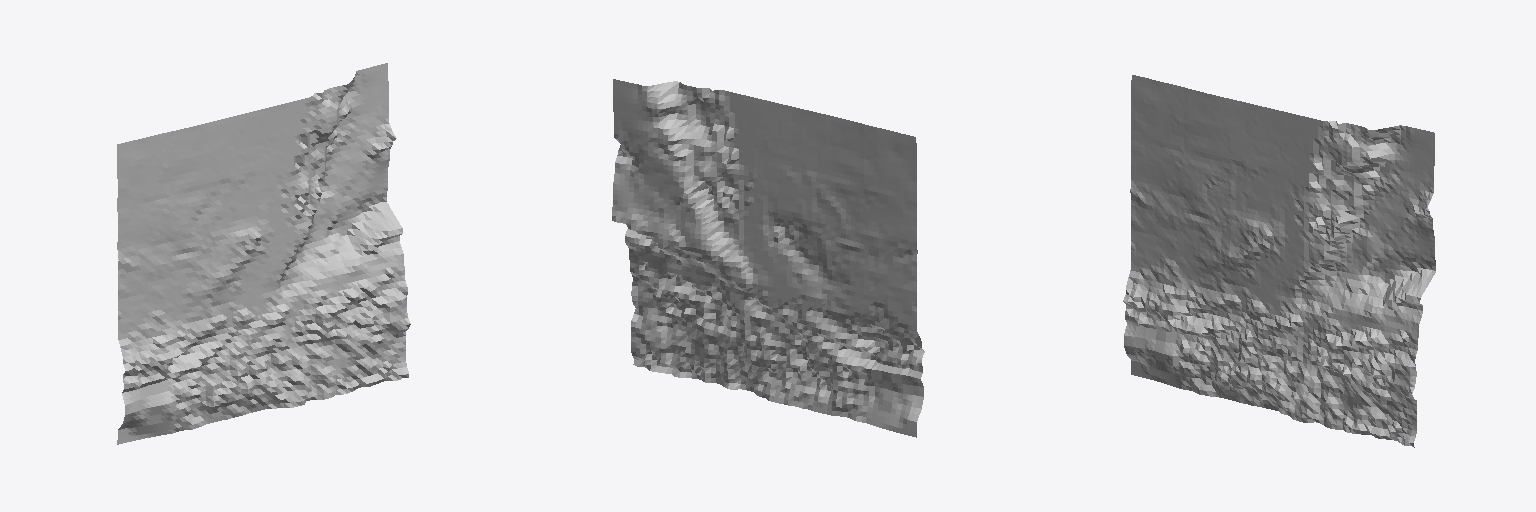
Rendered from belize_closeup_12.obj.
3 views of the same model, side by side, from view 1: azimuth 30°, elevation 25°; view 2: azimuth 150°, elevation 25°; view 3: azimuth 330°, elevation 25° (orthographic).
Bounding box in the file's own units: 555555 × 555555 × 92592.